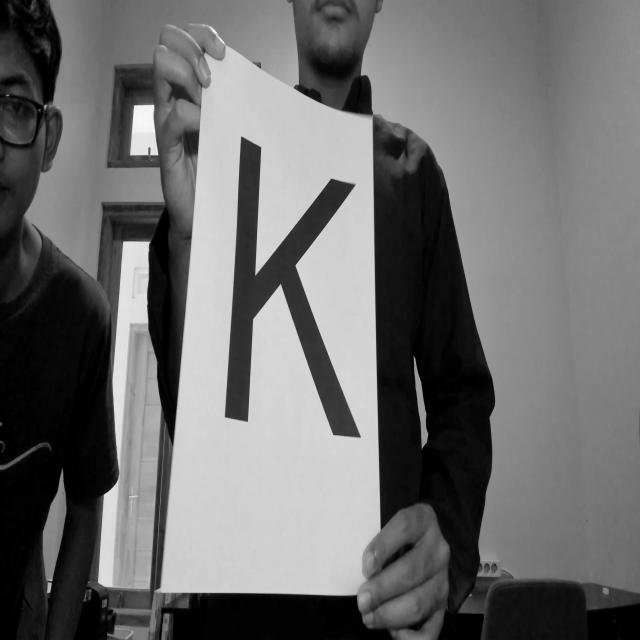k: (216, 115, 362, 472)
